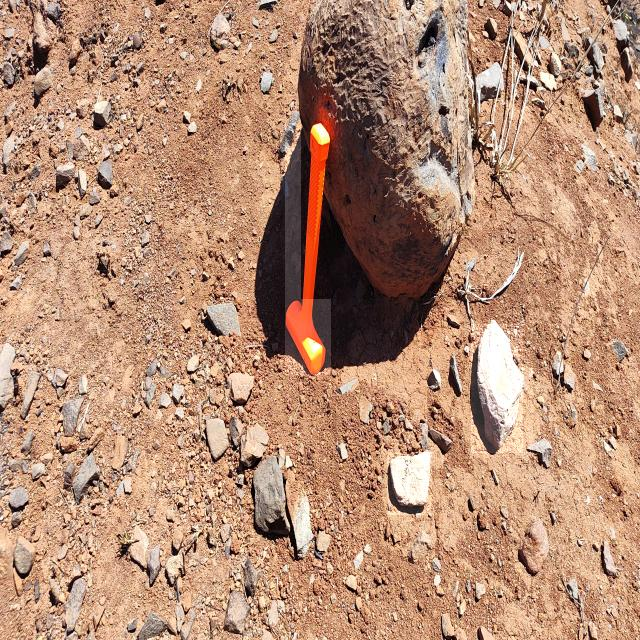Orange_hammer: (286, 123, 332, 375)
rock: (302, 13, 470, 299), (470, 309, 533, 458), (472, 324, 523, 453), (388, 452, 432, 515), (251, 457, 286, 530), (72, 451, 102, 502), (96, 158, 116, 194)
